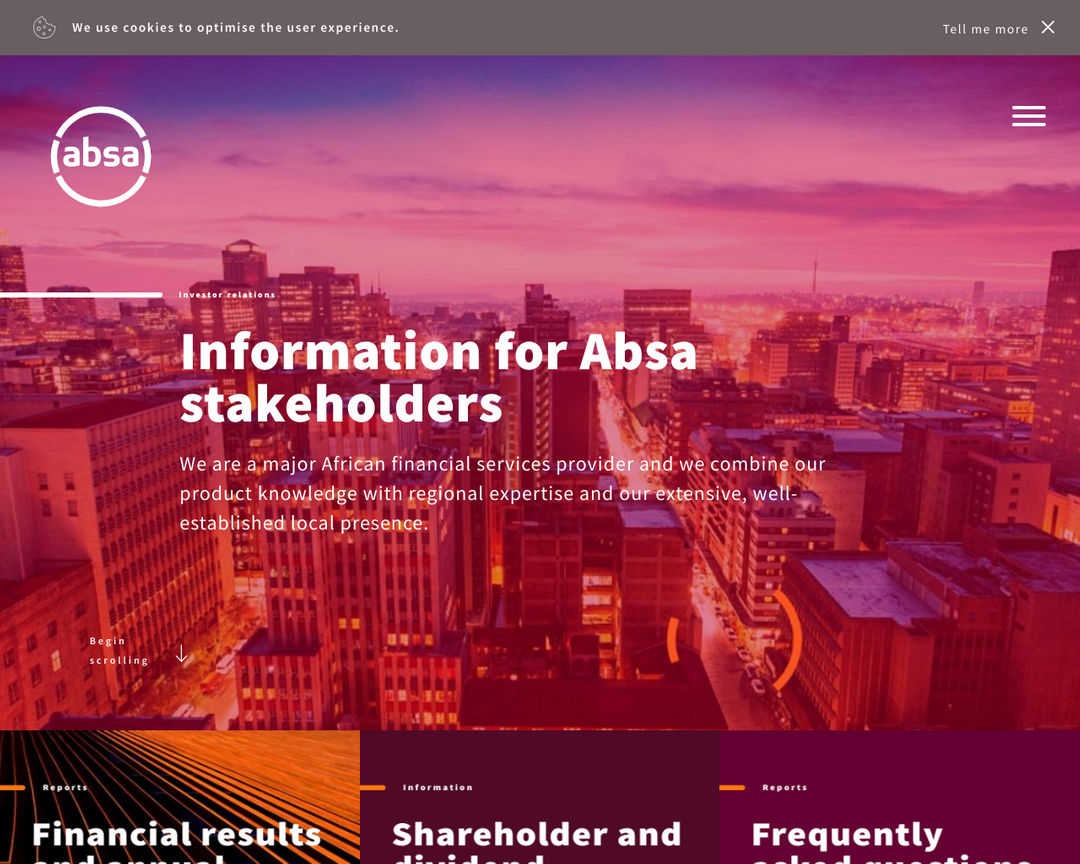ABSA: (47, 101, 155, 211)
